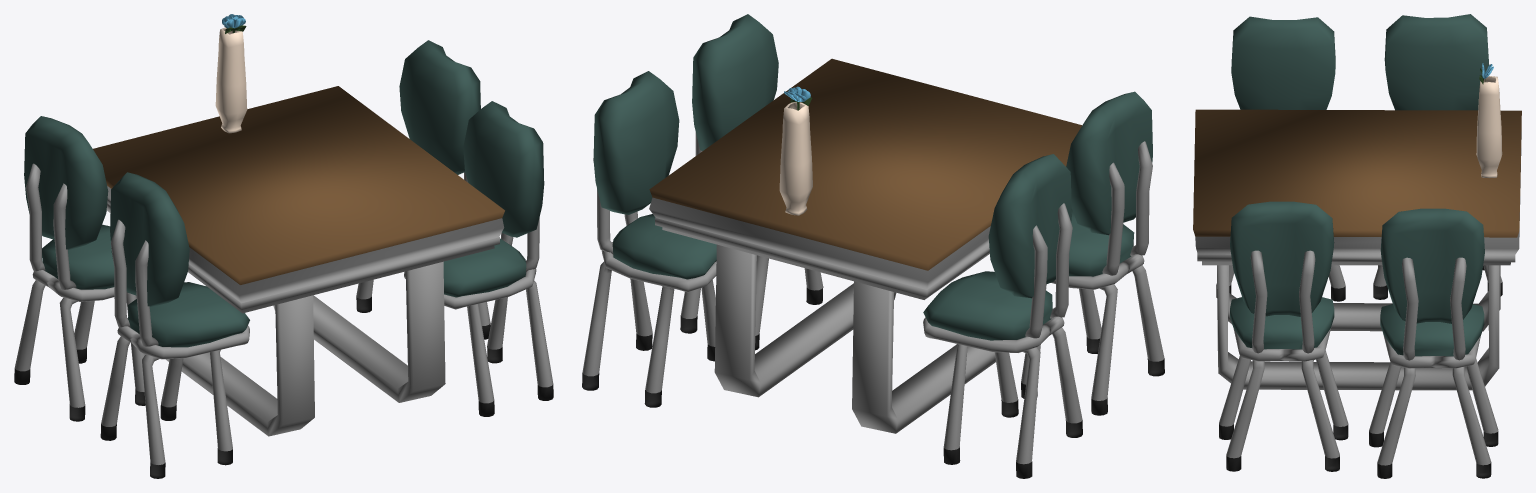
The model's file is EmptyTable.glb.
3 views of the same model, side by side, from view 1: azimuth 30°, elevation 25°; view 2: azimuth 150°, elevation 25°; view 3: azimuth 270°, elevation 25° (orthographic). The views are drawn at different scales.
Visible parts, largest first — view 1: Table.001, Chair.004, Chair, Chair.003, Chair.002, FlowerVase; view 2: Table.001, Chair, Chair.002, Chair.004, Chair.003, FlowerVase; view 3: Table.001, Chair.002, Chair.003, Chair.004, Chair, FlowerVase.
Part boxes in pixels (x1=…): Table.001: x1=93, y1=86, x2=504, y2=436; Chair.004: x1=100, y1=172, x2=249, y2=478; Chair: x1=14, y1=116, x2=145, y2=421; Chair.003: x1=404, y1=101, x2=553, y2=416; Chair.002: x1=356, y1=40, x2=490, y2=339; FlowerVase: x1=215, y1=27, x2=247, y2=133; Table.001: x1=649, y1=58, x2=1081, y2=433; Chair: x1=923, y1=154, x2=1082, y2=478; Chair.002: x1=582, y1=71, x2=716, y2=407; Chair.004: x1=1021, y1=91, x2=1164, y2=415; Chair.003: x1=680, y1=14, x2=823, y2=350; FlowerVase: x1=779, y1=102, x2=812, y2=215; Table.001: x1=1193, y1=109, x2=1521, y2=390; Chair.002: x1=1369, y1=208, x2=1498, y2=478; Chair.003: x1=1219, y1=201, x2=1348, y2=471; Chair.004: x1=1216, y1=16, x2=1345, y2=301; Chair: x1=1373, y1=14, x2=1502, y2=299; FlowerVase: x1=1476, y1=76, x2=1502, y2=178.
Bounding box in the file's own units: 9.17 × 6.79 × 6.35.
